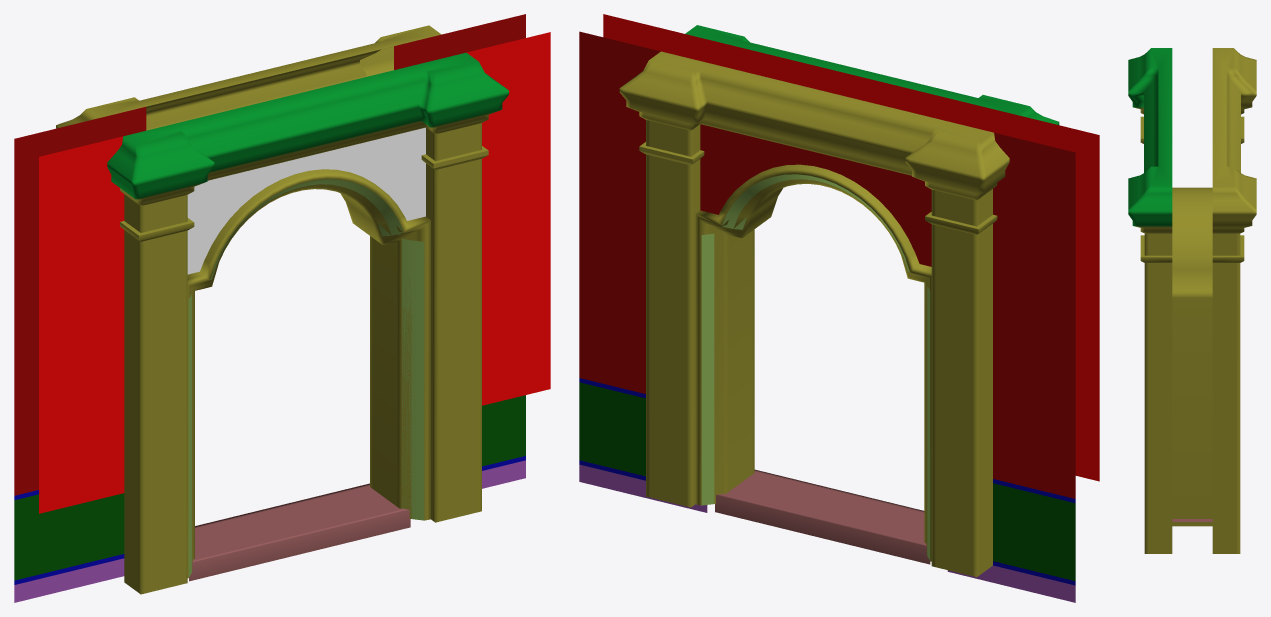
File: SM_ExttoIntD.fbx
3 views of the same model, side by side, from view 1: azimuth 30°, elevation 25°; view 2: azimuth 150°, elevation 25°; view 3: azimuth 270°, elevation 25° (orthographic). The views are drawn at different scales.
Parts seen in each view (by area): view 1: SM_ExttoIntD; view 2: SM_ExttoIntD; view 3: SM_ExttoIntD.
Part boxes in pixels (bbox=[...]): SM_ExttoIntD: bbox=[14, 14, 550, 602]; SM_ExttoIntD: bbox=[579, 14, 1099, 602]; SM_ExttoIntD: bbox=[1128, 48, 1256, 553].
Bounding box in the file's own units: 600 × 520 × 158.
